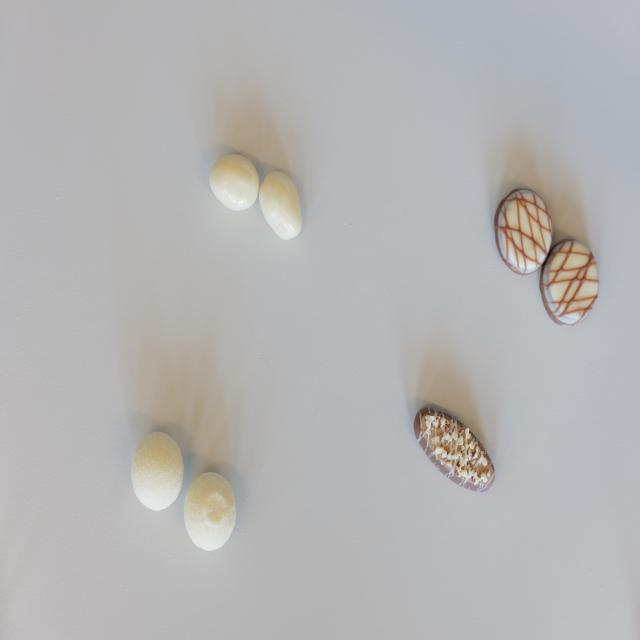Amandina: (412, 405, 496, 493)
Comtesse: (132, 431, 184, 512), (183, 472, 236, 550)
Creme_brulee: (540, 239, 601, 325), (493, 188, 550, 276)
Jelly_White: (258, 171, 302, 240), (209, 154, 260, 211)
